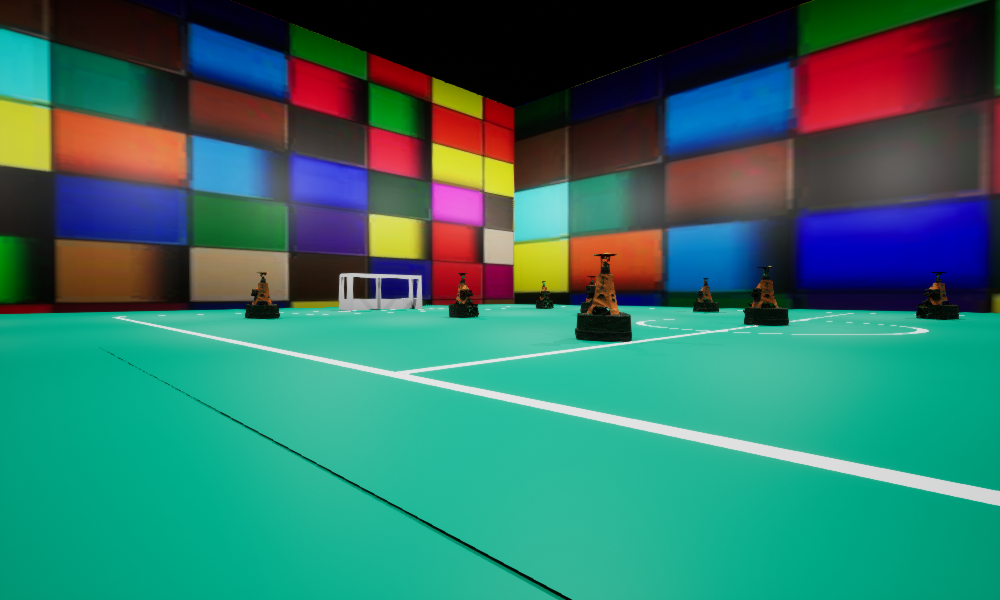0 orange robot TechUnited: (575, 253, 631, 341), (743, 266, 788, 325), (916, 272, 958, 319), (245, 272, 279, 318), (449, 273, 478, 317), (580, 276, 603, 313), (693, 278, 718, 311), (536, 281, 553, 308)
